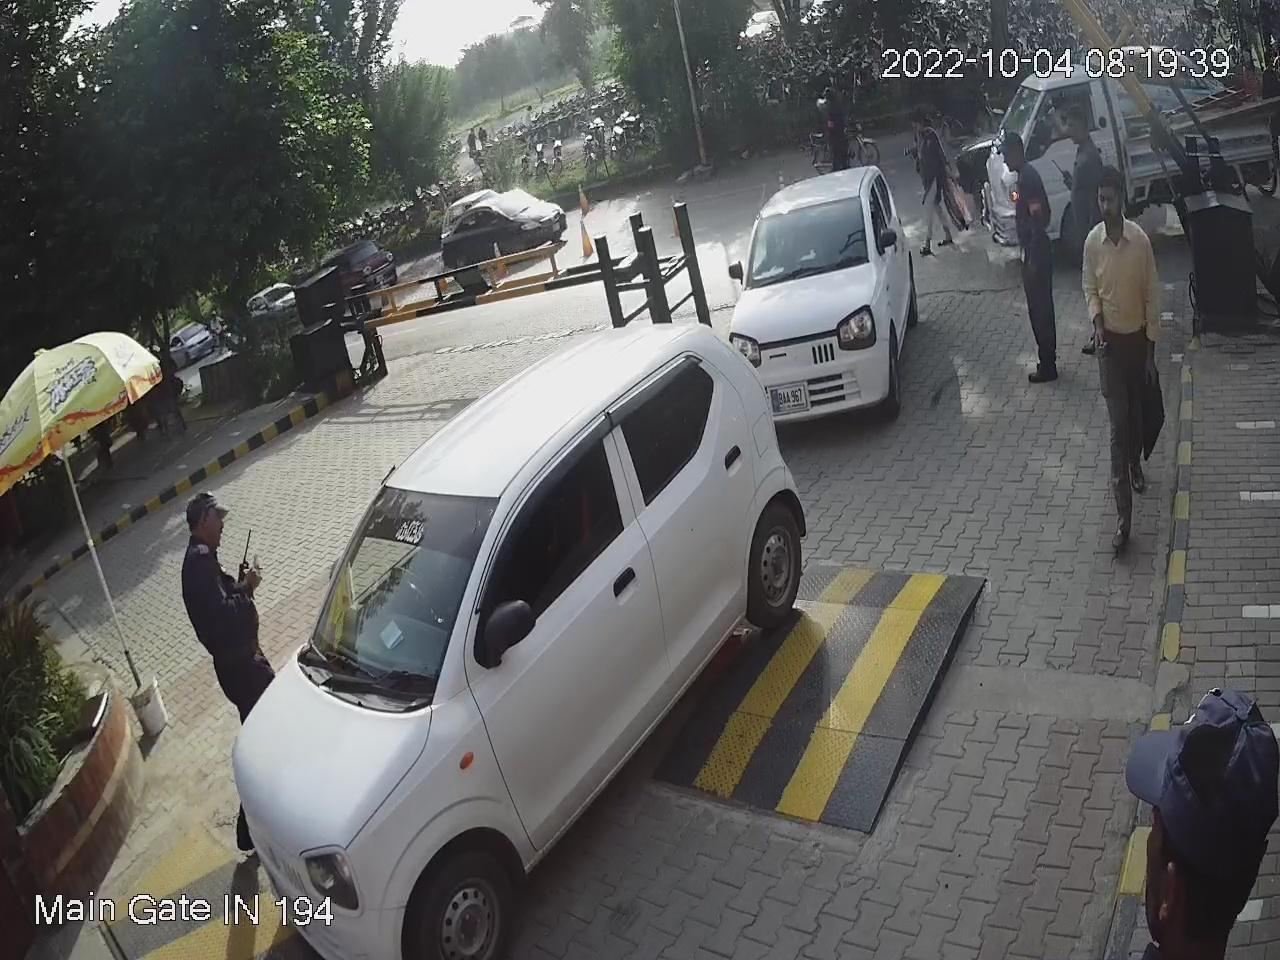windshield: (298, 475, 498, 727), (741, 183, 871, 287)
